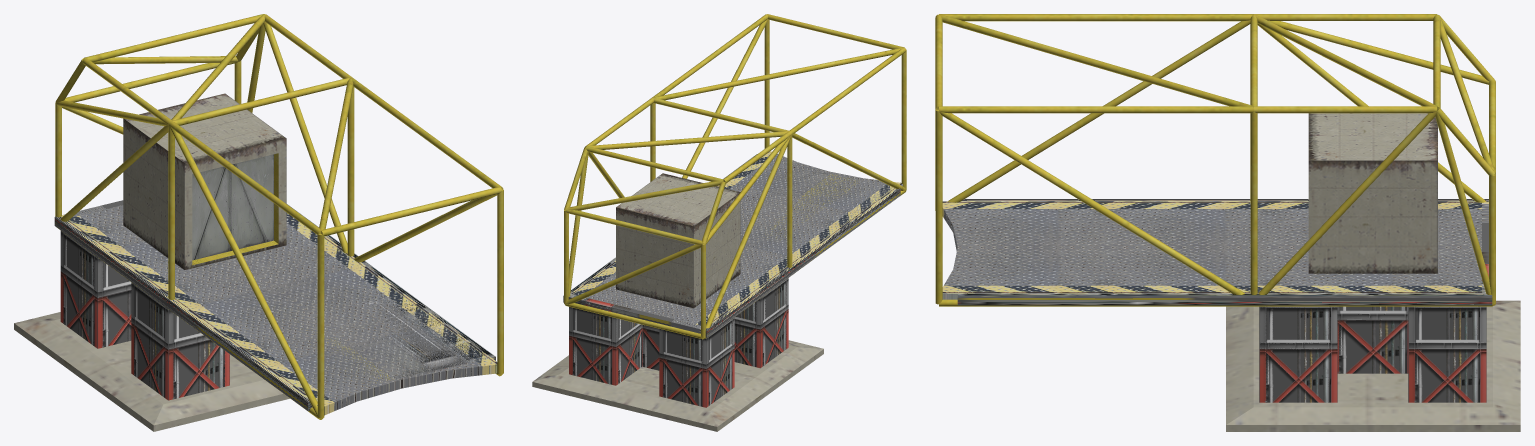
The model's file is Launch_Clamp_Swing.FBX.
3 renders of one model, left to right at view 1: azimuth 30°, elevation 25°; view 2: azimuth 150°, elevation 25°; view 3: azimuth 270°, elevation 25°, orthographic. The views are drawn at different scales.
Visible parts, largest first — view 1: Clamp, Tower, Base, Clamp_Col; view 2: Clamp, Tower, Base, Clamp_Col; view 3: Clamp, Tower, Base, Clamp_Col.
Part boxes in pixels (x1,y1,x2,y2): Clamp: (55,14,503,419); Tower: (60,231,229,400); Base: (14,312,289,431); Clamp_Col: (54,200,495,411); Clamp: (564,14,906,339); Tower: (569,278,788,407); Base: (532,340,823,431); Clamp_Col: (563,154,900,337); Clamp: (935,14,1495,306); Tower: (1259,306,1486,402); Base: (1226,300,1520,431); Clamp_Col: (957,199,1492,305).
Size of the model in its own units: 284 by 329 by 563.
1 material, 1 textured.
